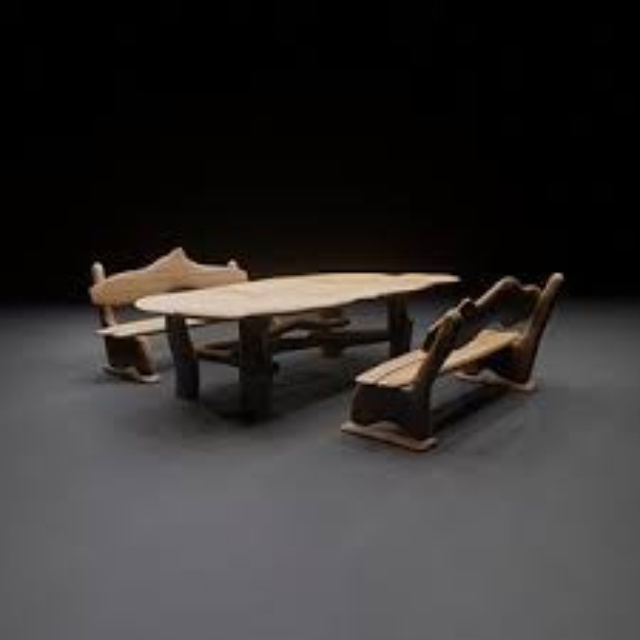obstacle: (63, 225, 569, 495)
